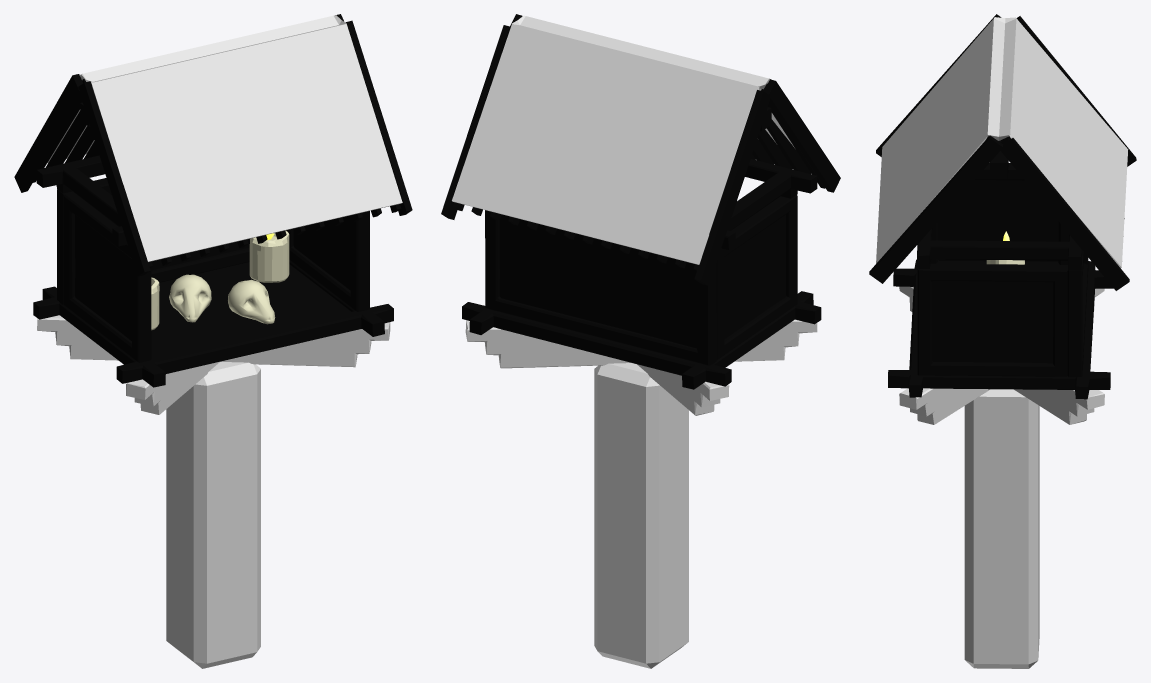
File: SpiritHouse.fbx
3 renders of one model, left to right at view 1: azimuth 30°, elevation 25°; view 2: azimuth 150°, elevation 25°; view 3: azimuth 270°, elevation 25°, orthographic. The views are drawn at different scales.
Visible parts, largest first — view 1: SpiritHouseRoof.001; view 2: SpiritHouseRoof.001; view 3: SpiritHouseRoof.001.
Part boxes in pixels (bbox=[...]): SpiritHouseRoof.001: bbox=[14, 14, 412, 668]; SpiritHouseRoof.001: bbox=[441, 14, 840, 668]; SpiritHouseRoof.001: bbox=[869, 14, 1136, 668].
Bounding box in the file's own units: 192 × 409 × 170.
